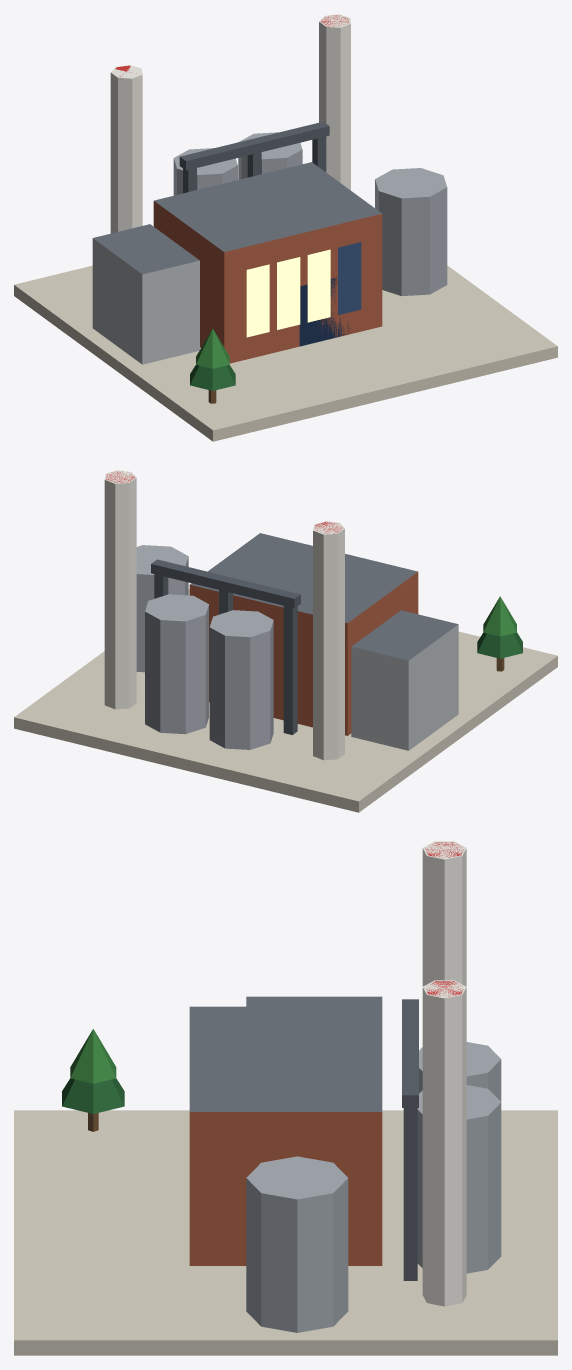
3 renders of one model, top to bottom at view 1: azimuth 30°, elevation 25°; view 2: azimuth 150°, elevation 25°; view 3: azimuth 270°, elevation 25°, orthographic. The views are drawn at different scales.
Visible parts, largest first — view 1: b38; view 2: b38; view 3: b38.
Boxes of the visible parts, box(x1,y1,x2,y2) form: b38: box(14, 14, 557, 441); b38: box(14, 470, 557, 812); b38: box(14, 841, 557, 1355).
Size of the model in its own units: 0.96 by 0.63 by 0.96.
